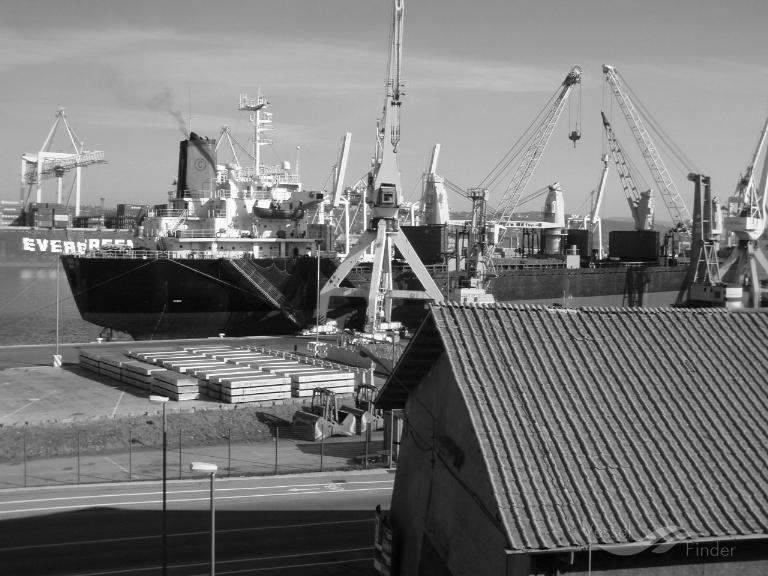OCR: (19, 230, 85, 255)
